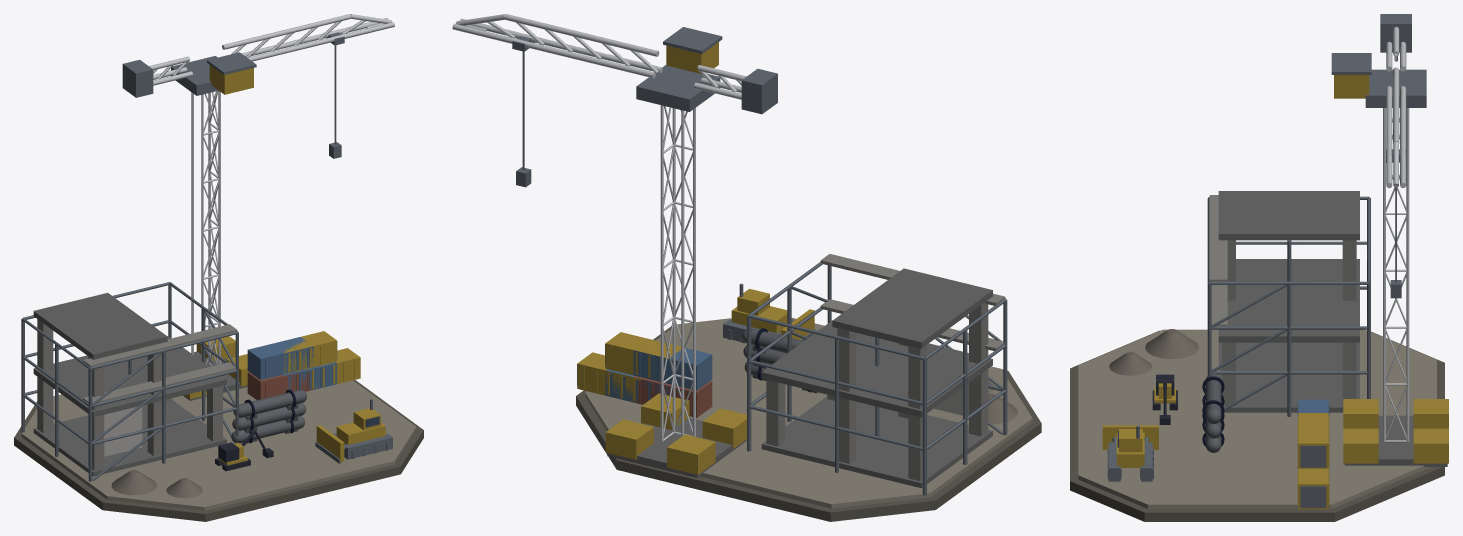
Rendered from construction_site_lvl1.glb.
3 renders of one model, left to right at view 1: azimuth 30°, elevation 25°; view 2: azimuth 150°, elevation 25°; view 3: azimuth 270°, elevation 25°, orthographic. The views are drawn at different scales.
Parts seen in each view (by area): view 1: construction_site; view 2: construction_site; view 3: construction_site.
Part boxes in pixels (bbox=[...]): construction_site: bbox=[14, 14, 423, 521]; construction_site: bbox=[452, 14, 1041, 521]; construction_site: bbox=[1070, 14, 1448, 521].
Bounding box in the file's own units: 1 × 0.8308 × 0.7127.
